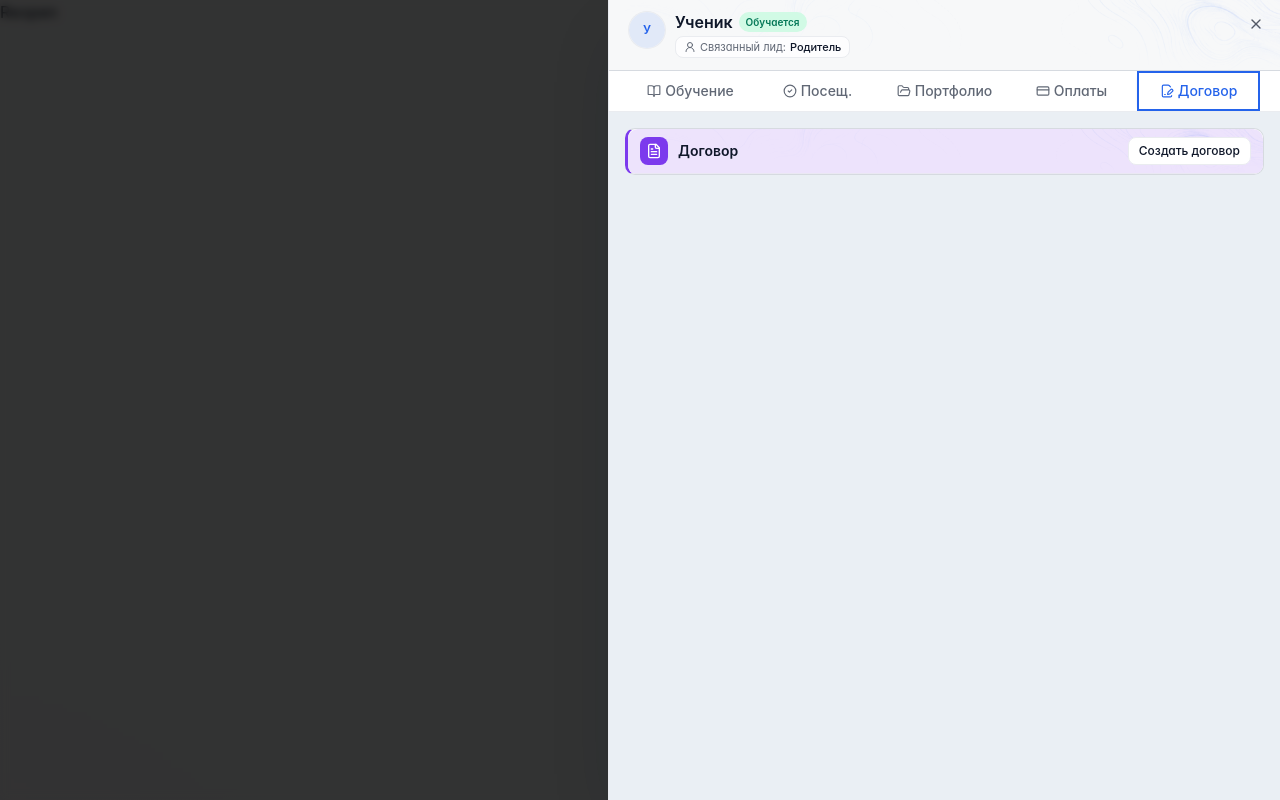
it: contract tab in the student detail modal › creates a contract for a student who does not have one yet
The width and height of the screenshot is (1280, 800).
Click the button "Создать договор": (1189, 151) x1=1128 y1=137 x2=1251 y2=165
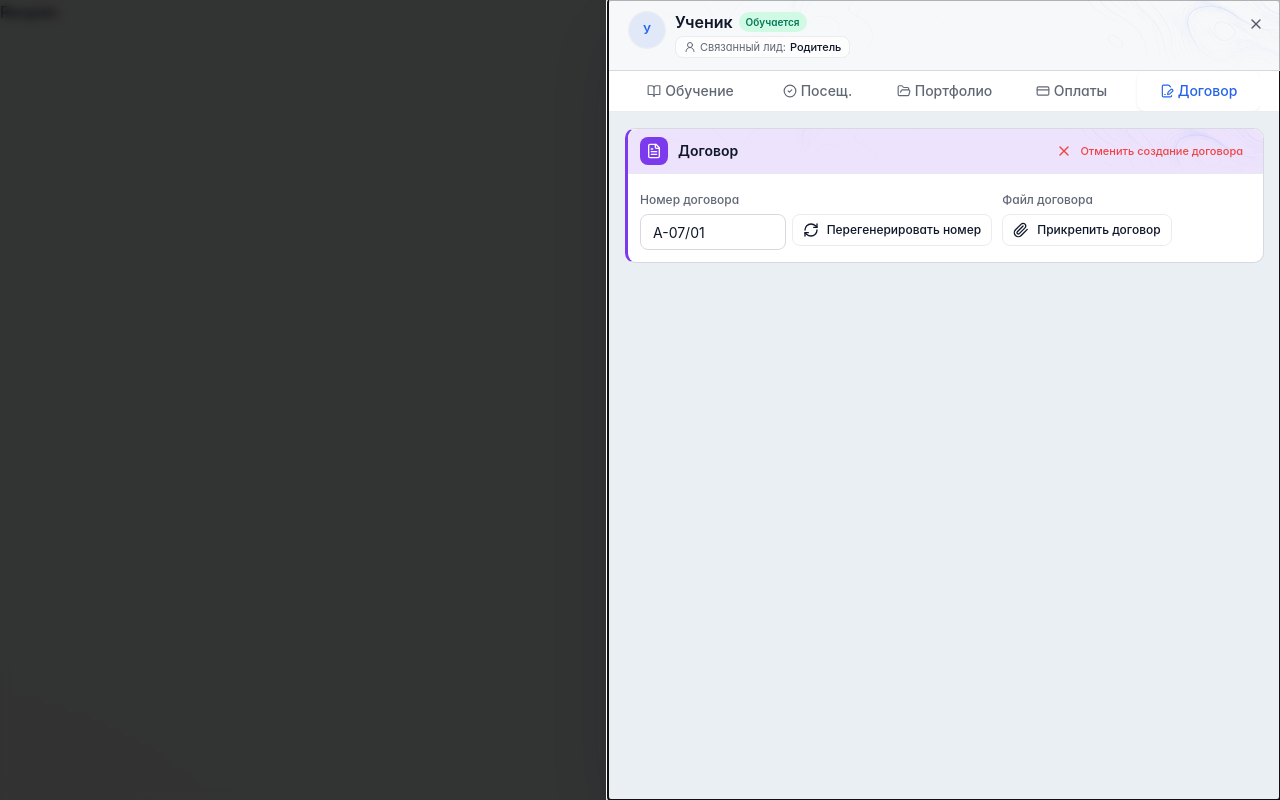
Check: the field labelled "Номер договора" holds "А-07/01", box x1=640 y1=214 x2=786 y2=250
